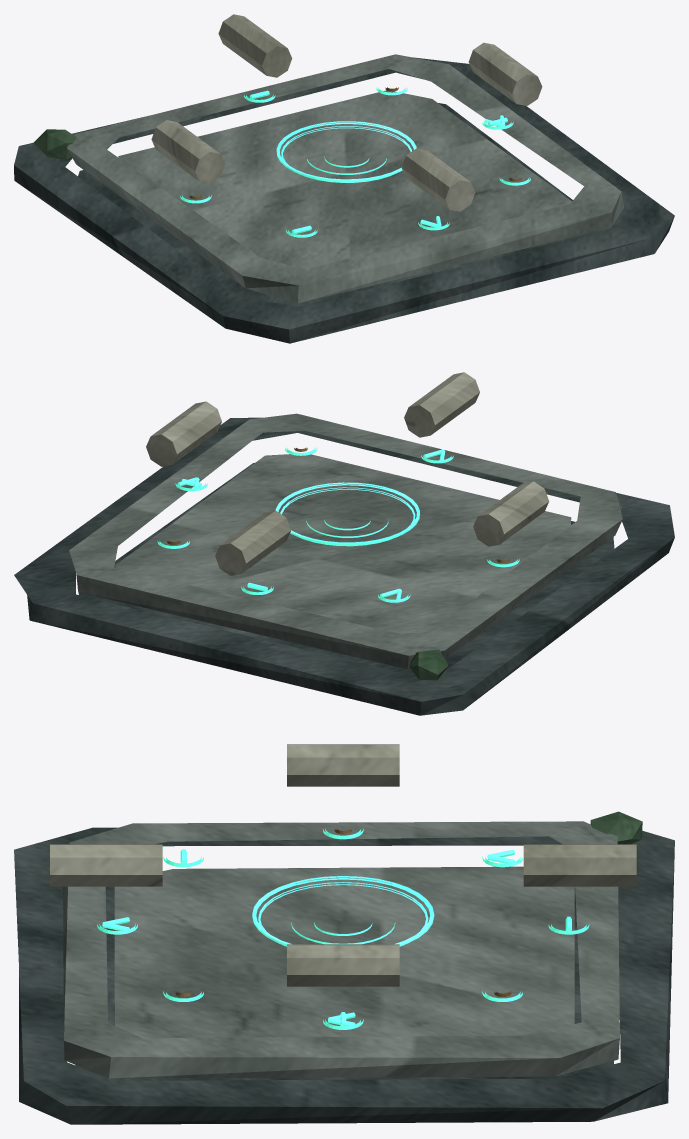
The model's file is 0570_rune_dais_20.glb.
3 views of the same model, one above another, from view 1: azimuth 30°, elevation 25°; view 2: azimuth 150°, elevation 25°; view 3: azimuth 270°, elevation 25° (orthographic). The views are drawn at different scales.
Parts seen in each view (by area): view 1: stone, stone_dark, stone_light, glow, moss; view 2: stone, stone_dark, stone_light, glow, moss; view 3: stone, stone_dark, stone_light, glow, moss.
Part boxes in pixels (<box>): stone: <box>67,54,624,303</box>; stone_dark: <box>14,57,674,343</box>; stone_light: <box>151,14,542,211</box>; glow: <box>180,87,530,237</box>; moss: <box>33,129,76,159</box>; stone: <box>69,413,622,669</box>; stone_dark: <box>14,417,674,715</box>; stone_light: <box>146,372,549,575</box>; glow: <box>157,447,519,602</box>; moss: <box>409,649,448,680</box>; stone: <box>63,821,619,1078</box>; stone_dark: <box>14,827,674,1124</box>; stone_light: <box>50,744,636,986</box>; glow: <box>97,828,589,1029</box>; moss: <box>590,811,642,844</box>.
Size of the model in its own units: 2.95 by 0.7093 by 2.93.
6 materials, 6 textured.
